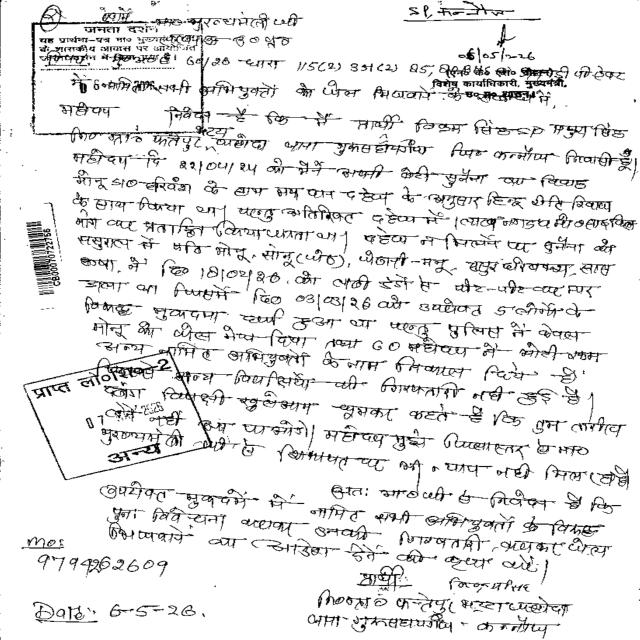antritgovtstamp: (8, 349, 213, 479)
barcode: (0, 198, 74, 303)
jantadarsan: (33, 24, 212, 136)
signnamestamp: (429, 21, 576, 104)
